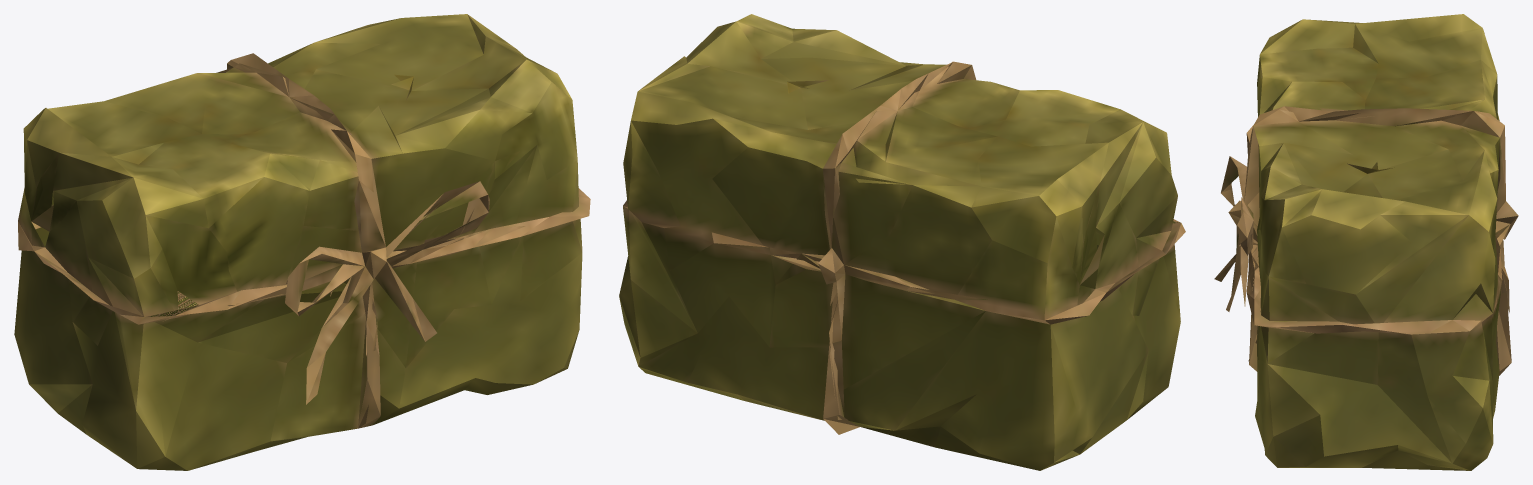
File: soap.glb
The picture shows the model from 3 angles, left to right: view 1: azimuth 30°, elevation 25°; view 2: azimuth 150°, elevation 25°; view 3: azimuth 270°, elevation 25°; orthographic projection. The views are drawn at different scales.
Parts seen in each view (by area): view 1: output_unwrapped; view 2: output_unwrapped; view 3: output_unwrapped.
Boxes of the visible parts, left/top/right/bottom form: output_unwrapped: left=14, top=14, right=590, bottom=470; output_unwrapped: left=619, top=14, right=1185, bottom=470; output_unwrapped: left=1214, top=14, right=1518, bottom=470.
Size of the model in its own units: 0.1984 by 0.12 by 0.1193.
1 material, 1 textured.
